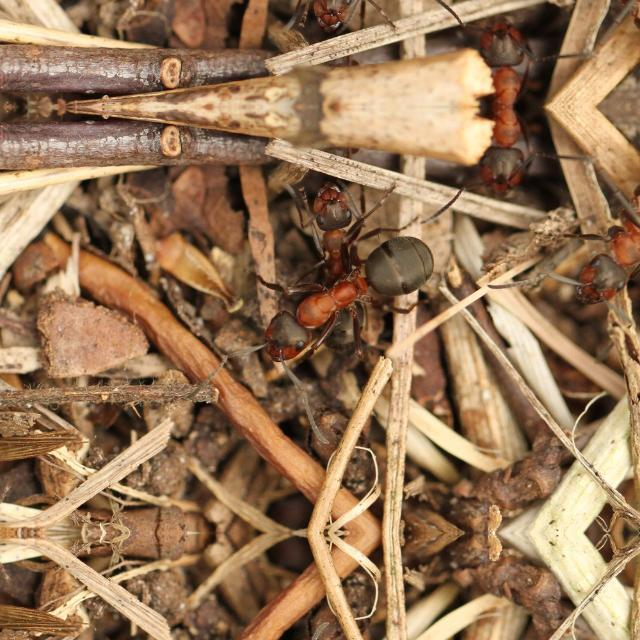Formica: (206, 206, 454, 367), (278, 157, 397, 289), (534, 184, 640, 320), (452, 106, 550, 202), (452, 10, 550, 106), (276, 0, 394, 54), (534, 0, 638, 28)
